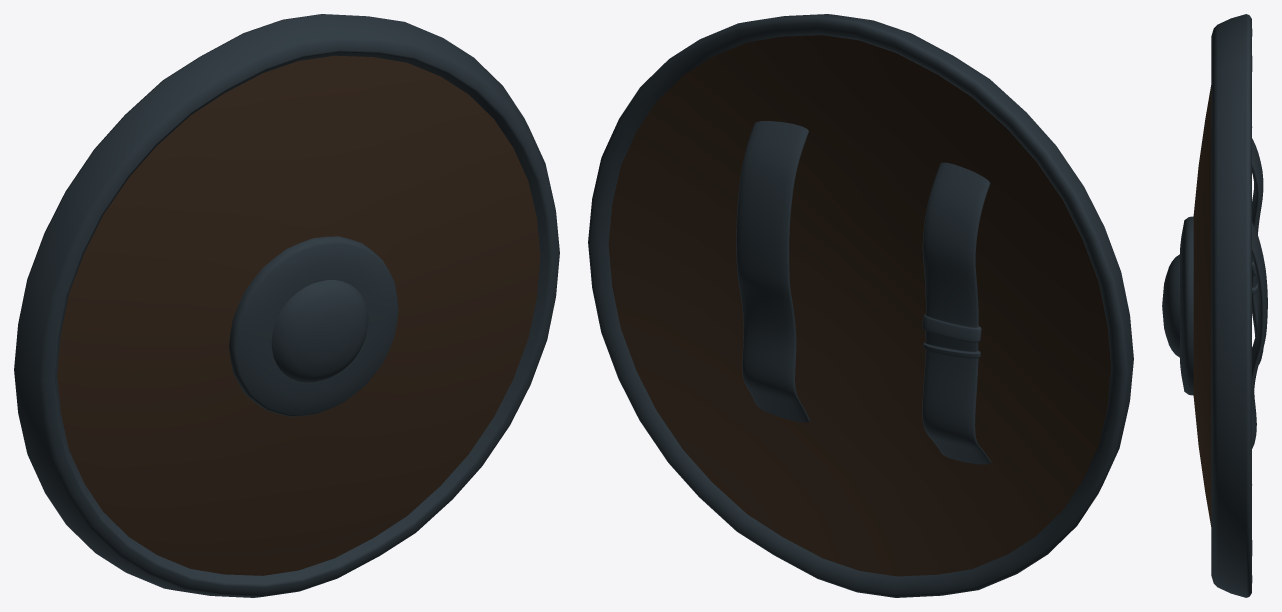
3 renders of one model, left to right at view 1: azimuth 30°, elevation 25°; view 2: azimuth 150°, elevation 25°; view 3: azimuth 270°, elevation 25°, orthographic. The views are drawn at different scales.
Parts seen in each view (by area): view 1: Shield_Geo (×2); view 2: Shield_Geo (×2), Straps_Geo; view 3: Shield_Geo (×2), Straps_Geo.
Part boxes in pixels (x1=…): Shield_Geo (×2): x1=14, y1=14, x2=559, y2=597; Shield_Geo (×2): x1=588, y1=14, x2=1133, y2=597; Straps_Geo: x1=736, y1=121, x2=991, y2=464; Shield_Geo (×2): x1=1162, y1=14, x2=1252, y2=597; Straps_Geo: x1=1252, y1=138, x2=1267, y2=448.
Bounding box in the file's own units: 1.98 × 2 × 0.3596.
